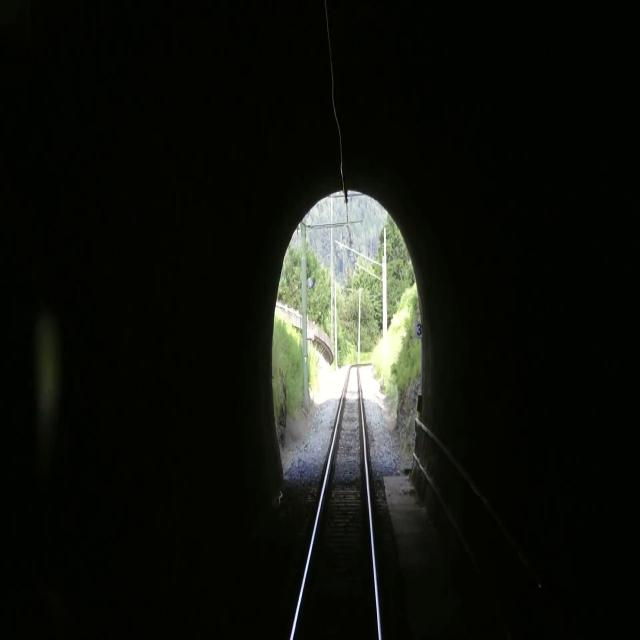rail-track: (294, 368, 377, 639)
